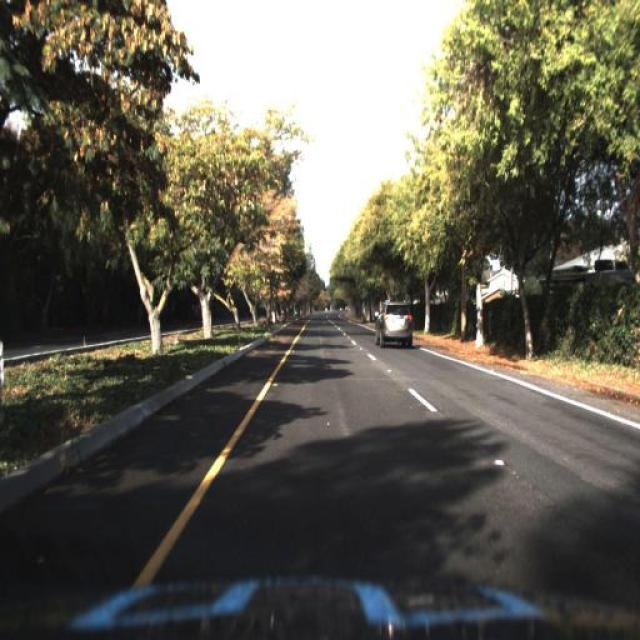car: (375, 298, 415, 348)
